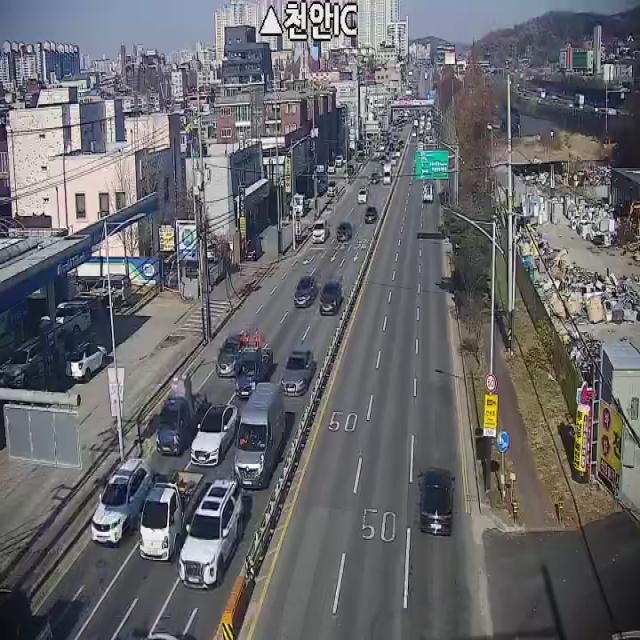Car: (178, 479, 244, 590), (234, 382, 286, 489), (91, 459, 155, 545), (156, 374, 208, 456), (190, 403, 238, 467), (417, 468, 456, 536), (40, 301, 92, 335), (281, 349, 317, 397), (65, 342, 107, 382), (96, 271, 133, 306), (217, 331, 242, 377), (319, 282, 343, 316), (294, 276, 318, 308), (245, 236, 263, 260), (313, 219, 330, 243), (337, 221, 352, 242), (147, 633, 179, 640), (365, 206, 377, 224), (327, 181, 338, 197)
Truck: (139, 470, 205, 561), (234, 332, 273, 398), (423, 182, 434, 203), (358, 185, 368, 203)
